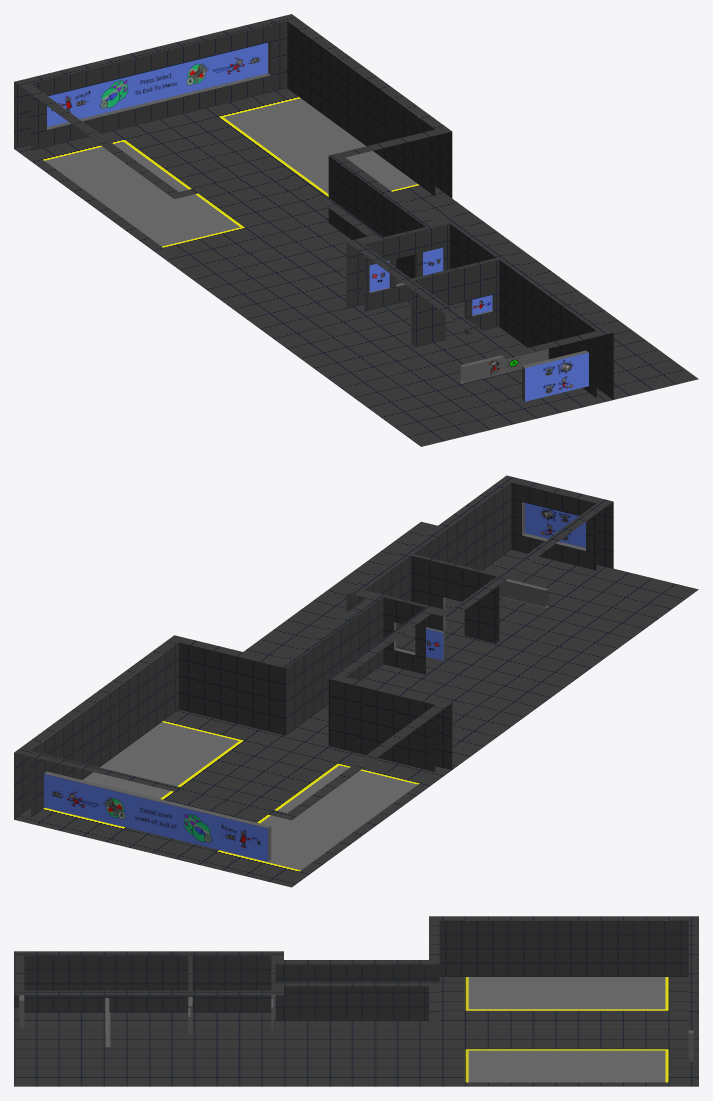
Rendered from tutorialMap.obj.
3 renders of one model, top to bottom at view 1: azimuth 30°, elevation 25°; view 2: azimuth 150°, elevation 25°; view 3: azimuth 270°, elevation 25°, orthographic. The views are drawn at different scales.
Visible parts, largest first — view 1: Boundaries_Plane.002; view 2: Boundaries_Plane.002; view 3: Boundaries_Plane.002.
Boxes of the visible parts, x1=… form: Boundaries_Plane.002: x1=14, y1=14, x2=698, y2=446; Boundaries_Plane.002: x1=14, y1=475, x2=698, y2=887; Boundaries_Plane.002: x1=14, y1=916, x2=698, y2=1086.
Size of the model in its own units: 26 by 6 by 66.
